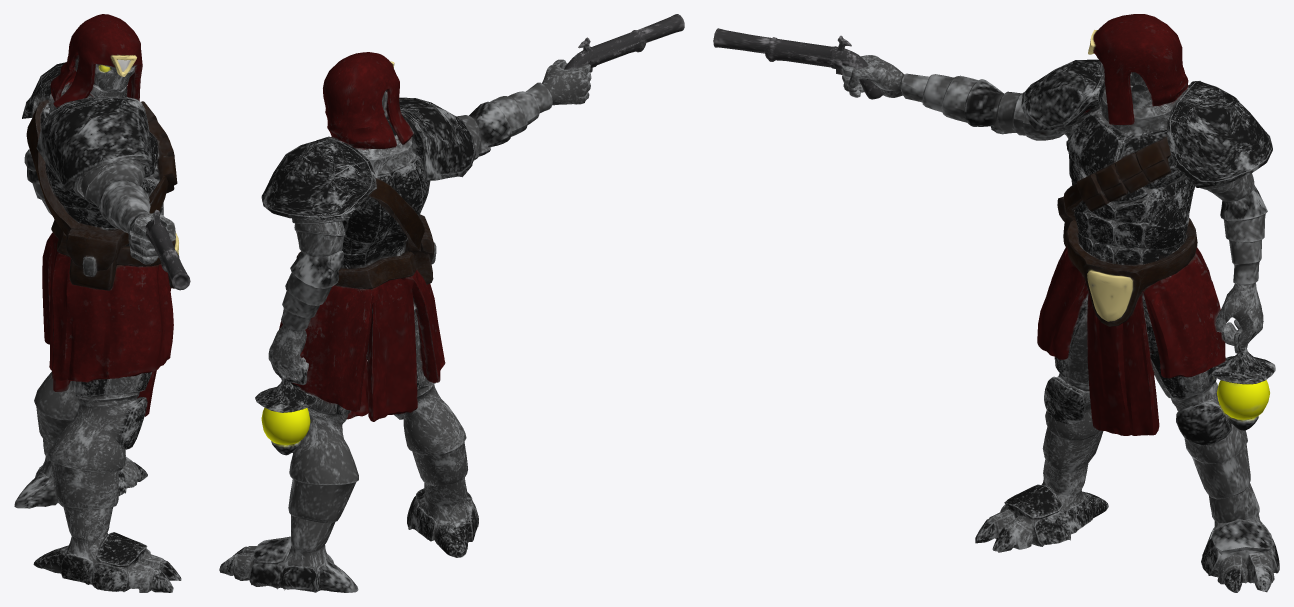
The model's file is MZ4250 - Warforged Gunslinger 2.glb.
3 views of the same model, side by side, from view 1: azimuth 30°, elevation 25°; view 2: azimuth 150°, elevation 25°; view 3: azimuth 270°, elevation 25° (orthographic). The views are drawn at different scales.
Visible parts, largest first — view 1: Warforged 2_low.001; view 2: Warforged 2_low.001; view 3: Warforged 2_low.001.
Boxes of the visible parts, x1,y1,x2,y2 form: Warforged 2_low.001: [14, 14, 190, 592]; Warforged 2_low.001: [219, 14, 684, 592]; Warforged 2_low.001: [713, 14, 1279, 592].
Size of the model in its own units: 1.03 by 2.26 by 2.18.
Materials: 1 (1 with a texture image).
